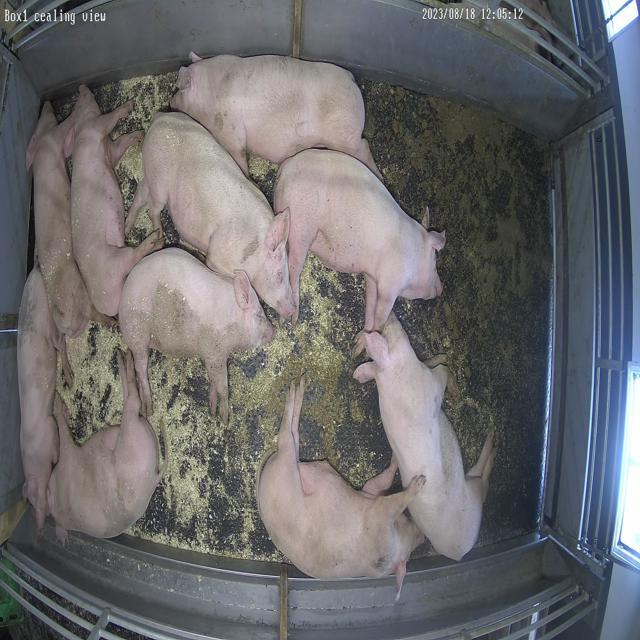Dirt: (362, 80, 552, 444), (232, 319, 378, 471)
Pig: (257, 377, 426, 598), (123, 112, 296, 318), (354, 314, 495, 562), (274, 150, 446, 332), (118, 248, 273, 424), (171, 54, 380, 176), (65, 85, 163, 316), (48, 352, 160, 539), (26, 102, 92, 336), (17, 266, 69, 528)
